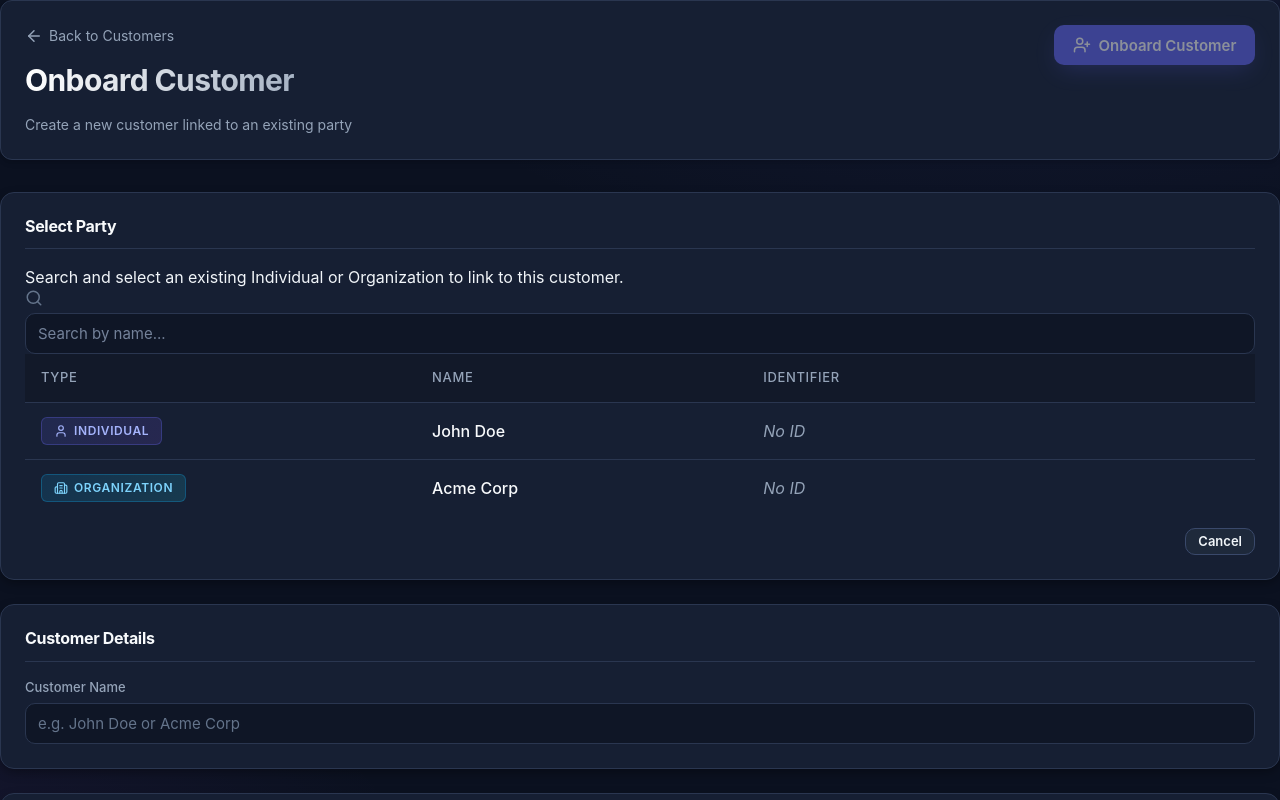
Scenario: CustomerOnboardPage › handles party search and selection
Note: Party auto-selects
Type "John" into the field with placeholder "Search by name..." at (640, 334), box [25, 313, 1255, 354]
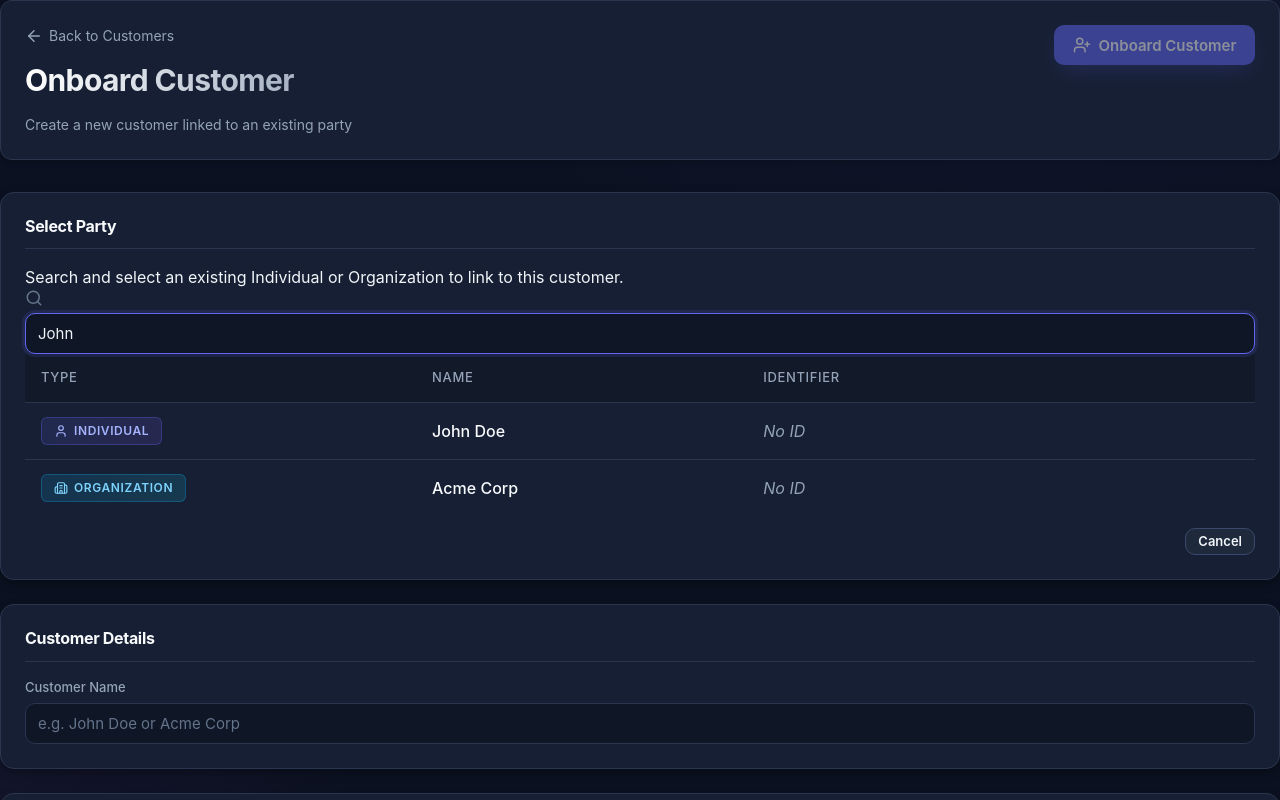
Note: Select logic
Click the button "Individual John Doe No ID" at (102, 431), box [25, 402, 1255, 459]
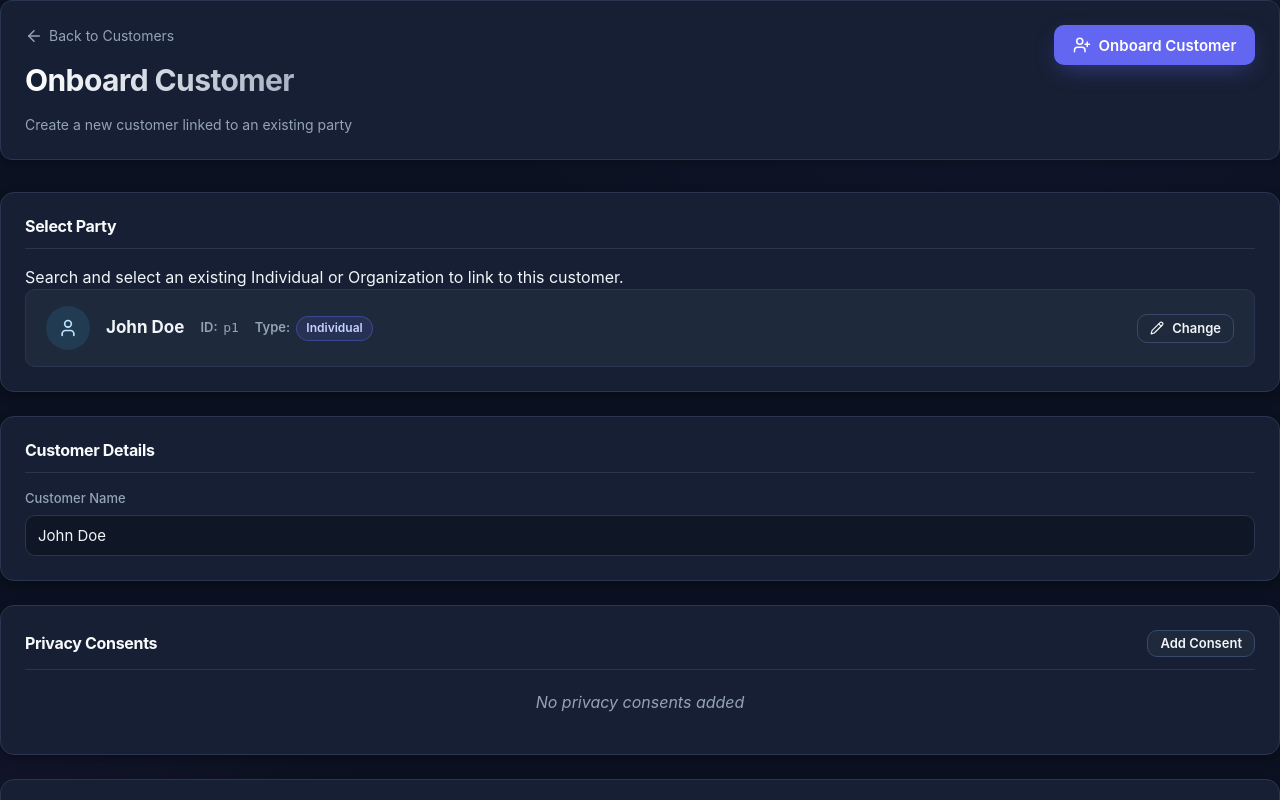
Check: the button "Change" is shown, box [1137, 314, 1234, 343]
